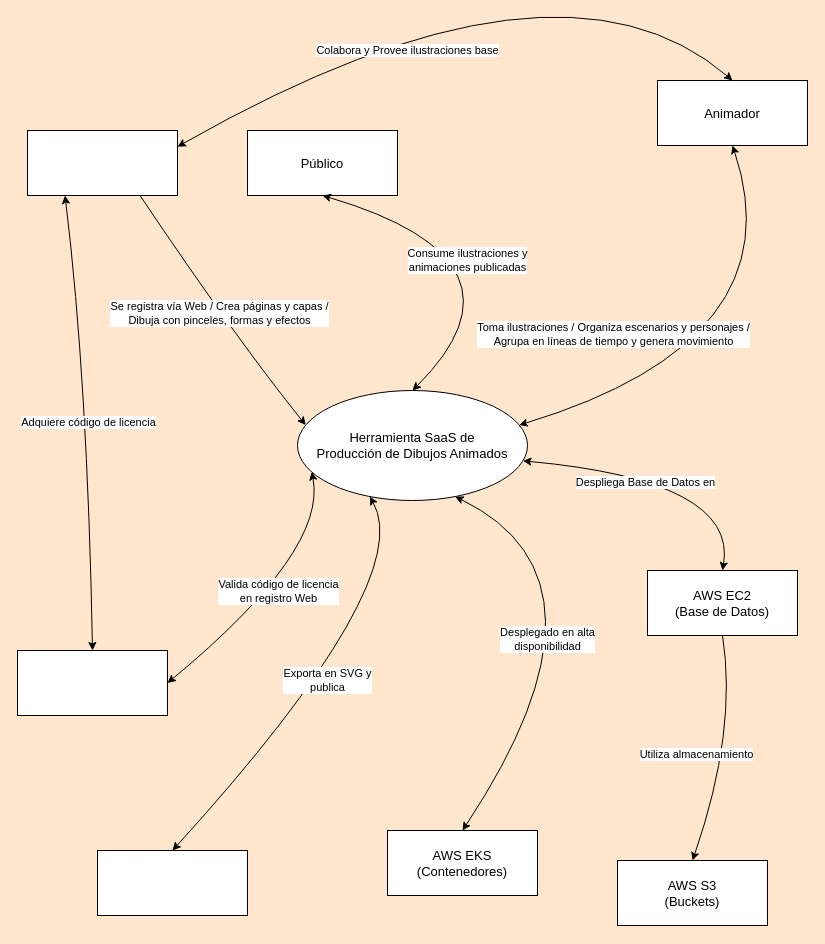
Some shapes in this 825 by 944 pixel diagram are drawn without their labels. The shapes that lost their labels are listed below. From the top down, each one's box as (x1, y1, x2, y2) in pixels, then its label:
(26, 130, 178, 196): Ilustrador
(16, 650, 168, 716): Sistema de Licencias
(96, 850, 248, 916): Portal Web
